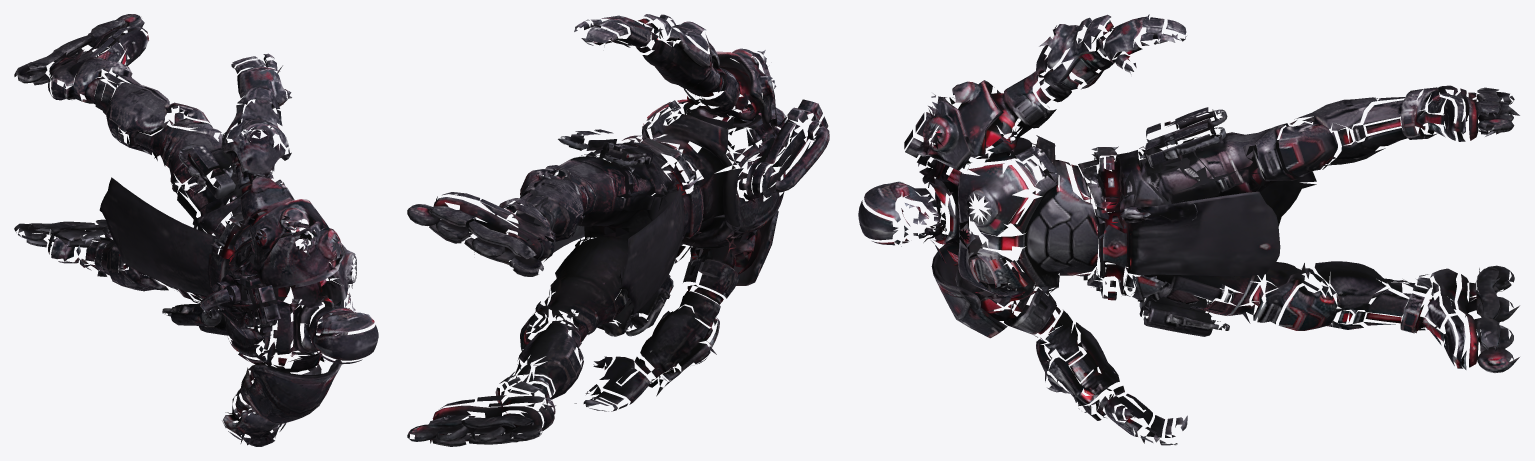
Rendered from GM_Skater_BlackRed_LOD1.glb.
3 renders of one model, left to right at view 1: azimuth 30°, elevation 25°; view 2: azimuth 150°, elevation 25°; view 3: azimuth 270°, elevation 25°, orthographic. The views are drawn at different scales.
Visible parts, largest first — view 1: GM_Skater_BlackRed_LOD1_tmp; view 2: GM_Skater_BlackRed_LOD1_tmp; view 3: GM_Skater_BlackRed_LOD1_tmp.
Boxes of the visible parts, x1,y1,x2,y2 form: GM_Skater_BlackRed_LOD1_tmp: [14, 14, 378, 446]; GM_Skater_BlackRed_LOD1_tmp: [407, 14, 829, 446]; GM_Skater_BlackRed_LOD1_tmp: [858, 14, 1519, 445].
Size of the model in its own units: 0.3418 by 0.7034 by 1.01.
1 material, 1 textured.
